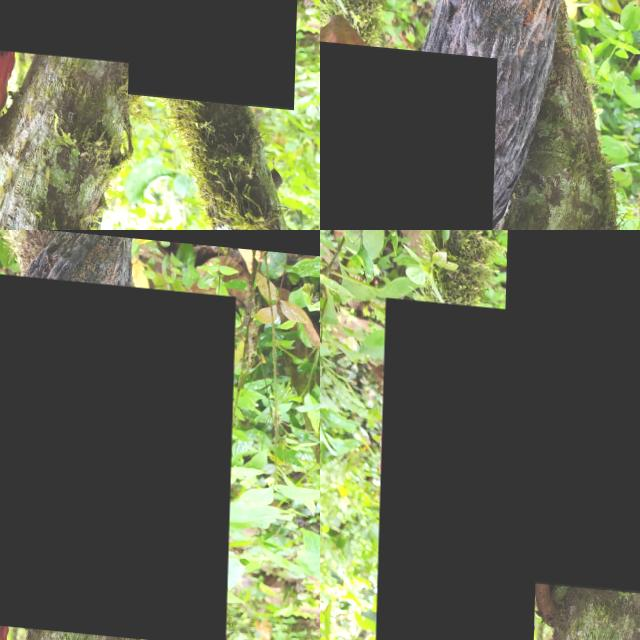Fitoftora: (377, 294, 544, 640), (499, 230, 640, 586), (320, 36, 498, 230), (130, 0, 307, 97)
Monilia: (0, 267, 235, 636)
